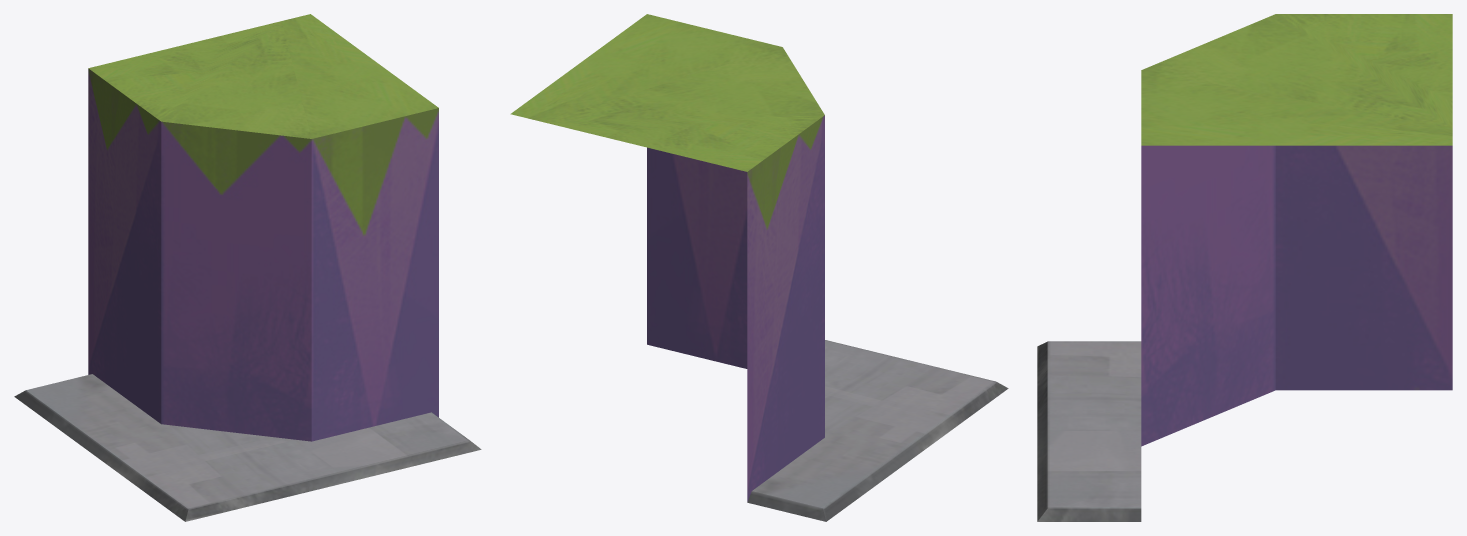
File: wall_thick_corner.fbx
3 renders of one model, left to right at view 1: azimuth 30°, elevation 25°; view 2: azimuth 150°, elevation 25°; view 3: azimuth 270°, elevation 25°, orthographic. The views are drawn at different scales.
Visible parts, largest first — view 1: wall_thick_corner; view 2: wall_thick_corner; view 3: wall_thick_corner.
Part boxes in pixels (x1,y1,x2,y2): wall_thick_corner: [14, 14, 481, 521]; wall_thick_corner: [510, 14, 1008, 521]; wall_thick_corner: [1037, 14, 1452, 521].
Bounding box in the file's own units: 0.02 × 0.02 × 0.02.
